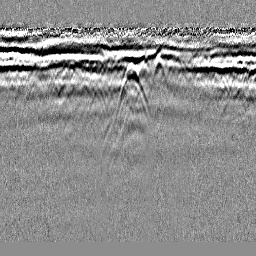cavity: (114, 62, 151, 120)
